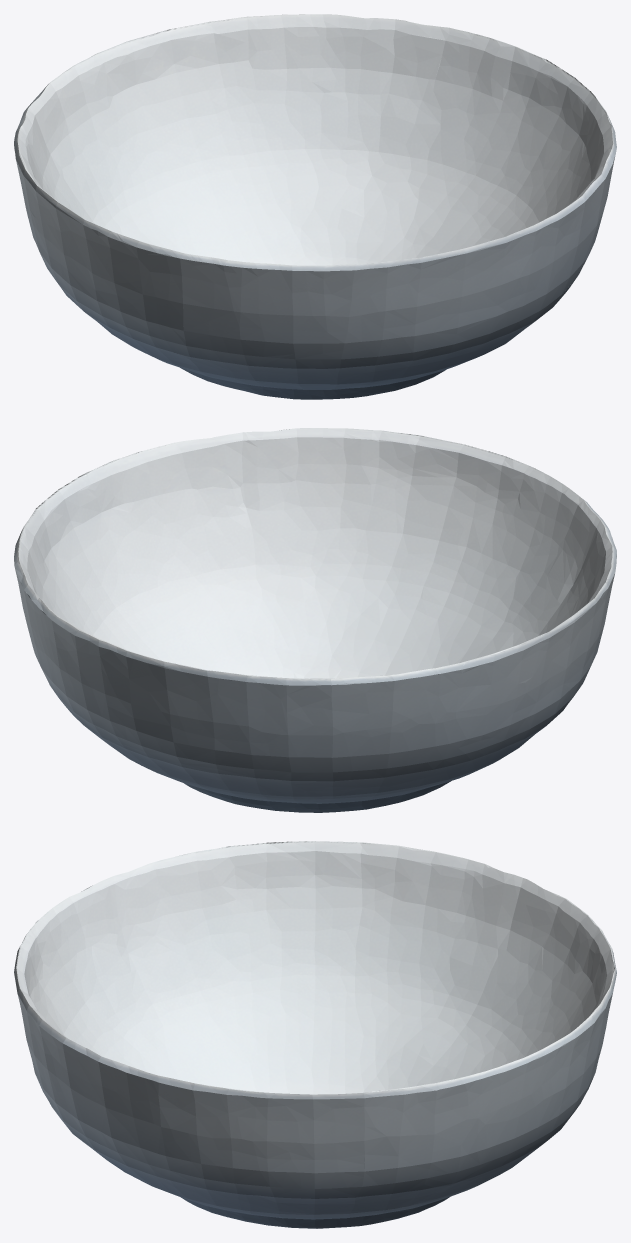
3 renders of one model, top to bottom at view 1: azimuth 30°, elevation 25°; view 2: azimuth 150°, elevation 25°; view 3: azimuth 270°, elevation 25°, orthographic.
Parts seen in each view (by area): view 1: world; view 2: world; view 3: world.
Boxes of the visible parts, left/top/right/bottom form: world: left=14, top=14, right=616, bottom=399; world: left=14, top=428, right=616, bottom=812; world: left=14, top=841, right=616, bottom=1228.
Bounding box in the file's own units: 0.993 × 0.3559 × 0.9946.
Materials: 1 (1 with a texture image).
